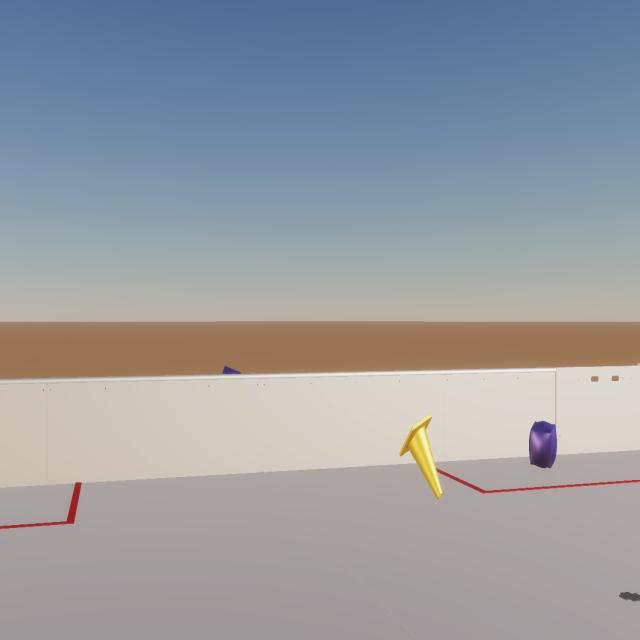frc_cone: (399, 414, 443, 499)
frc_cube: (529, 421, 557, 468)
